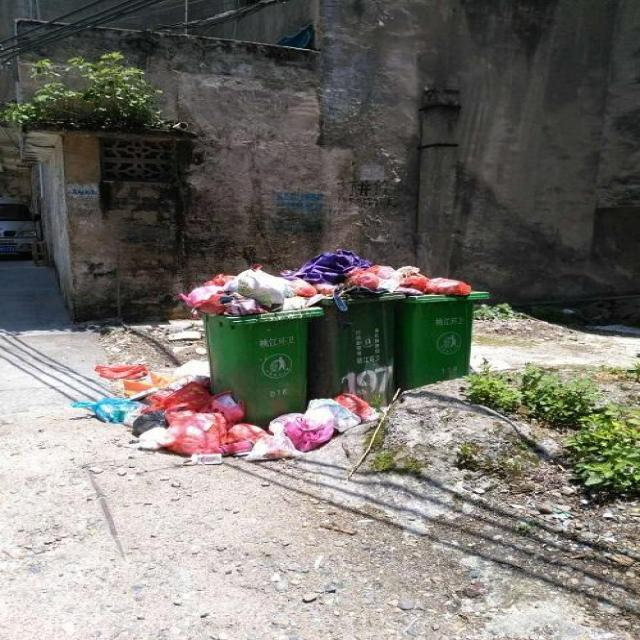garbage: (73, 360, 379, 464)
overflow: (184, 265, 316, 421), (308, 251, 399, 400), (396, 266, 490, 386)
